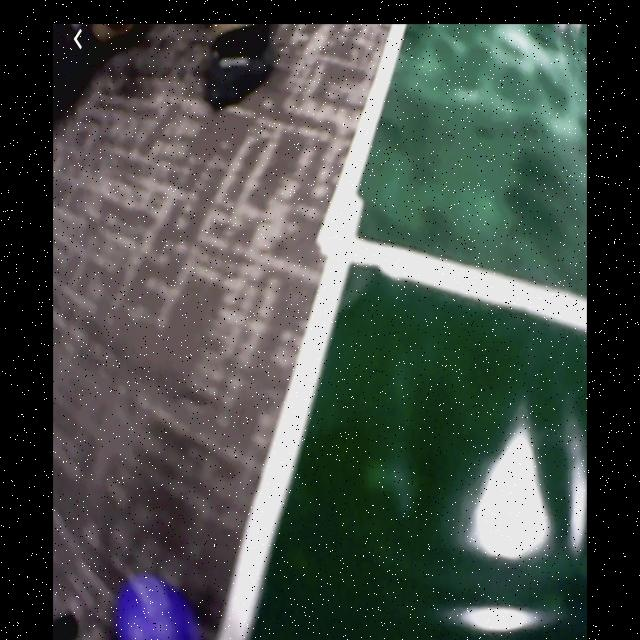ball: (116, 576, 204, 640)
